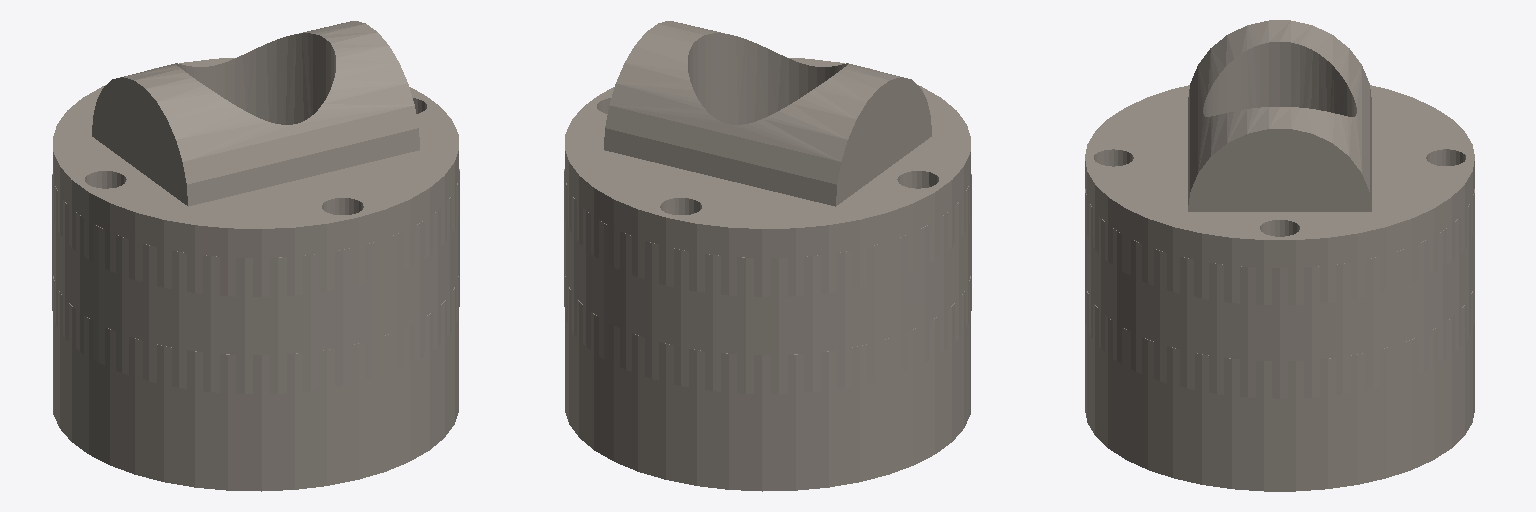
--- Facts derived from the render (not from the file) ---
Views: 3 orthographic renders of the robot side by side, from view 1: azimuth 30°, elevation 25°; view 2: azimuth 150°, elevation 25°; view 3: azimuth 270°, elevation 25°.
Robot: cylinder_joint_25asm_13 — 26 links, 25 joints (24 continuous, 1 fixed); root link link0; default pose: every joint at zero.
Visible links, largest first — view 1: link6, link22, link25, link24, link3, link21, link0, link8, link1, link23, link17, link10 (+1 smaller); view 2: link6, link22, link25, link3, link24, link21, link0, link8, link1, link23, link10; view 3: link22, link0, link6, link1, link8, link23, link14.
Link boxes in pixels (x1,y1,x2,y2): link6: (53,21,458,296); link22: (53,63,458,284); link25: (53,347,357,491); link24: (53,276,357,422); link3: (52,169,459,325); link21: (52,243,368,393); link0: (149,345,458,479); link8: (358,276,458,411); link1: (67,239,459,385); link23: (52,171,459,324); link17: (68,273,413,383); link10: (93,98,424,214); link6: (565,21,970,296); link22: (565,63,970,284); link25: (666,347,970,491); link3: (564,169,971,325); link24: (666,276,970,422); link21: (652,243,971,393); link0: (565,345,874,479); link8: (565,276,665,411); link1: (564,239,903,384); link23: (564,171,971,325); link10: (596,99,928,214); link22: (1085,20,1474,304); link0: (1085,348,1474,491); link6: (1085,107,1474,239); link1: (1085,258,1474,398); link8: (1085,291,1474,425); link23: (1085,193,1474,332); link14: (1094,108,1466,236).
Size in the robot's own frame: 0.0038 by 0.0038 by 0.0038 metres.
Meshes: 26 distinct files referenced, 23 mesh visuals loaded (23 binary STL); not drawn: 3 (reference not matched to a file when rendering).

The robot description file, URDF, robot "cylinder_joint_25asm_13":
<?xml version="1.0" encoding="utf-8"?>
<!-- This URDF was automatically created by SolidWorks to URDF Exporter! Originally created by Stephen Brawner ([email redacted]) 
     Commit Version: 1.5.1-0-g916b5db  Build Version: 1.5.7152.31018
     For more information, please see http://wiki.ros.org/sw_urdf_exporter -->
<robot
  name="cylinder_joint_25asm_13">
  <link
    name="link0">
    <inertial>
      <origin
        xyz="-2.21907652596446E-08 -1.16344392510809E-08 0.000538247791607803"
        rpy="0 0 0" />
      <mass
        value="7.14380964147276E-06" />
      <inertia
        ixx="7.09547840102883E-12"
        ixy="4.28536440220919E-17"
        ixz="7.27330777188676E-17"
        iyy="8.71236658742558E-12"
        iyz="1.14893231592751E-16"
        izz="1.39367891333543E-11" />
    </inertial>
    <visual>
      <origin
        xyz="0 0 0"
        rpy="0 0 0" />
      <geometry>
        <mesh
          filename="package://cylinder_joint_25asm_13/meshes/link0.STL" />
      </geometry>
      <material
        name="">
        <color
          rgba="0.647058823529412 0.619607843137255 0.588235294117647 1" />
      </material>
    </visual>
    <collision>
      <origin
        xyz="0 0 0"
        rpy="0 0 0" />
      <geometry>
        <mesh
          filename="package://cylinder_joint_25asm_13/meshes/link0.STL" />
      </geometry>
    </collision>
  </link>
  <link
    name="link1">
    <inertial>
      <origin
        xyz="2.21907652597405E-08 0.000838247791607803 -1.16344392510295E-08"
        rpy="0 0 0" />
      <mass
        value="7.14380964147277E-06" />
      <inertia
        ixx="7.09547840102883E-12"
        ixy="-7.27330777189981E-17"
        ixz="-4.28536440221508E-17"
        iyy="1.39367891333544E-11"
        iyz="1.14893231591823E-16"
        izz="8.71236658742558E-12" />
    </inertial>
    <visual>
      <origin
        xyz="0 0 0"
        rpy="0 0 0" />
      <geometry>
        <mesh
          filename="package://cylinder_joint_25asm_13/meshes/link1.STL" />
      </geometry>
      <material
        name="">
        <color
          rgba="0.647058823529412 0.619607843137255 0.588235294117647 1" />
      </material>
    </visual>
    <collision>
      <origin
        xyz="0 0 0"
        rpy="0 0 0" />
      <geometry>
        <mesh
          filename="package://cylinder_joint_25asm_13/meshes/link1.STL" />
      </geometry>
    </collision>
  </link>
  <joint
    name="joint1"
    type="continuous">
    <origin
      xyz="0 0 0.0007"
      rpy="1.5708 0 1.5708" />
    <parent
      link="link0" />
    <child
      link="link1" />
    <axis
      xyz="0 0 1" />
    <limit
      lower="-0.157"
      upper="0.157"
      effort="100"
      velocity="1" />
  </joint>
  <link
    name="link2">
    <inertial>
      <origin
        xyz="-2.21907652596427E-08 0.000838247791607803 1.16344392512799E-08"
        rpy="0 0 0" />
      <mass
        value="7.14380964147276E-06" />
      <inertia
        ixx="7.09547840102883E-12"
        ixy="7.2733077718779E-17"
        ixz="-4.28536440221158E-17"
        iyy="1.39367891333544E-11"
        iyz="-1.14893231591539E-16"
        izz="8.71236658742558E-12" />
    </inertial>
    <visual>
      <origin
        xyz="0 0 0"
        rpy="0 0 0" />
      <geometry>
        <mesh
          filename="package://cylinder_joint_25asm_13/meshes/link2.STL" />
      </geometry>
      <material
        name="">
        <color
          rgba="0.647058823529412 0.619607843137255 0.588235294117647 1" />
      </material>
    </visual>
    <collision>
      <origin
        xyz="0 0 0"
        rpy="0 0 0" />
      <geometry>
        <mesh
          filename="package://cylinder_joint_25asm_13/meshes/link2.STL" />
      </geometry>
    </collision>
  </link>
  <joint
    name="joint2"
    type="continuous">
    <origin
      xyz="0 0.001 0"
      rpy="0 1.5708 0" />
    <parent
      link="link1" />
    <child
      link="link2" />
    <axis
      xyz="0 0 1" />
    <limit
      lower="-0.157"
      upper="0.157"
      effort="100"
      velocity="1" />
  </joint>
  <link
    name="link3">
    <inertial>
      <origin
        xyz="-2.21907652596674E-08 0.000838247791607803 1.16344392514508E-08"
        rpy="0 0 0" />
      <mass
        value="7.14380964147276E-06" />
      <inertia
        ixx="7.09547840102883E-12"
        ixy="7.27330777185047E-17"
        ixz="-4.28536440225979E-17"
        iyy="1.39367891333543E-11"
        iyz="-1.14893231591706E-16"
        izz="8.71236658742558E-12" />
    </inertial>
    <visual>
      <origin
        xyz="0 0 0"
        rpy="0 0 0" />
      <geometry>
        <mesh
          filename="package://cylinder_joint_25asm_13/meshes/link3.STL" />
      </geometry>
      <material
        name="">
        <color
          rgba="0.647058823529412 0.619607843137255 0.588235294117647 1" />
      </material>
    </visual>
    <collision>
      <origin
        xyz="0 0 0"
        rpy="0 0 0" />
      <geometry>
        <mesh
          filename="package://cylinder_joint_25asm_13/meshes/link3.STL" />
      </geometry>
    </collision>
  </link>
  <joint
    name="joint3"
    type="continuous">
    <origin
      xyz="0 0.001 0"
      rpy="3.1416 -1.5708 0" />
    <parent
      link="link2" />
    <child
      link="link3" />
    <axis
      xyz="0 0 1" />
    <limit
      lower="-0.157"
      upper="0.157"
      effort="100"
      velocity="1" />
  </joint>
  <link
    name="link4">
    <inertial>
      <origin
        xyz="-2.21907652595925E-08 0.000838247791607803 1.16344392505559E-08"
        rpy="0 0 0" />
      <mass
        value="7.14380964147276E-06" />
      <inertia
        ixx="7.09547840102882E-12"
        ixy="7.27330777185742E-17"
        ixz="-4.28536440226602E-17"
        iyy="1.39367891333543E-11"
        iyz="-1.14893231591943E-16"
        izz="8.71236658742557E-12" />
    </inertial>
    <visual>
      <origin
        xyz="0 0 0"
        rpy="0 0 0" />
      <geometry>
        <mesh
          filename="package://cylinder_joint_25asm_13/meshes/link4.STL" />
      </geometry>
      <material
        name="">
        <color
          rgba="0.647058823529412 0.619607843137255 0.588235294117647 1" />
      </material>
    </visual>
    <collision>
      <origin
        xyz="0 0 0"
        rpy="0 0 0" />
      <geometry>
        <mesh
          filename="package://cylinder_joint_25asm_13/meshes/link4.STL" />
      </geometry>
    </collision>
  </link>
  <joint
    name="joint4"
    type="continuous">
    <origin
      xyz="0 0.001 0"
      rpy="0 1.5708 0" />
    <parent
      link="link3" />
    <child
      link="link4" />
    <axis
      xyz="0 0 1" />
    <limit
      lower="-0.157"
      upper="0.157"
      effort="100"
      velocity="1" />
  </joint>
  <link
    name="link5">
    <inertial>
      <origin
        xyz="-2.21907652597814E-08 0.000838247791607805 1.16344392510284E-08"
        rpy="0 0 0" />
      <mass
        value="7.14380964147276E-06" />
      <inertia
        ixx="7.09547840102882E-12"
        ixy="7.27330777185579E-17"
        ixz="-4.28536440225277E-17"
        iyy="1.39367891333543E-11"
        iyz="-1.1489323159178E-16"
        izz="8.71236658742557E-12" />
    </inertial>
    <visual>
      <origin
        xyz="0 0 0"
        rpy="0 0 0" />
      <geometry>
        <mesh
          filename="package://cylinder_joint_25asm_13/meshes/link5.STL" />
      </geometry>
      <material
        name="">
        <color
          rgba="0.647058823529412 0.619607843137255 0.588235294117647 1" />
      </material>
    </visual>
    <collision>
      <origin
        xyz="0 0 0"
        rpy="0 0 0" />
      <geometry>
        <mesh
          filename="package://cylinder_joint_25asm_13/meshes/link5.STL" />
      </geometry>
    </collision>
  </link>
  <joint
    name="joint5"
    type="continuous">
    <origin
      xyz="0 0.001 0"
      rpy="3.1416 -1.5708 0" />
    <parent
      link="link4" />
    <child
      link="link5" />
    <axis
      xyz="0 0 1" />
    <limit
      lower="-0.157"
      upper="0.157"
      effort="100"
      velocity="1" />
  </joint>
  <link
    name="link6">
    <inertial>
      <origin
        xyz="-2.21907652596203E-08 0.000838247791607804 1.16344392499469E-08"
        rpy="0 0 0" />
      <mass
        value="7.14380964147276E-06" />
      <inertia
        ixx="7.09547840102882E-12"
        ixy="7.27330777187836E-17"
        ixz="-4.28536440227107E-17"
        iyy="1.39367891333543E-11"
        iyz="-1.14893231591542E-16"
        izz="8.71236658742557E-12" />
    </inertial>
    <visual>
      <origin
        xyz="0 0 0"
        rpy="0 0 0" />
      <geometry>
        <mesh
          filename="package://cylinder_joint_25asm_13/meshes/link6.STL" />
      </geometry>
      <material
        name="">
        <color
          rgba="0.647058823529412 0.619607843137255 0.588235294117647 1" />
      </material>
    </visual>
    <collision>
      <origin
        xyz="0 0 0"
        rpy="0 0 0" />
      <geometry>
        <mesh
          filename="package://cylinder_joint_25asm_13/meshes/link6.STL" />
      </geometry>
    </collision>
  </link>
  <joint
    name="joint6"
    type="continuous">
    <origin
      xyz="0 0.001 0"
      rpy="0 1.5708 0" />
    <parent
      link="link5" />
    <child
      link="link6" />
    <axis
      xyz="0 0 1" />
    <limit
      lower="-0.157"
      upper="0.157"
      effort="100"
      velocity="1" />
  </joint>
  <link
    name="link7">
    <inertial>
      <origin
        xyz="-2.21907652597862E-08 0.000838247791607803 1.16344392505934E-08"
        rpy="0 0 0" />
      <mass
        value="7.14380964147276E-06" />
      <inertia
        ixx="7.09547840102882E-12"
        ixy="7.27330777190427E-17"
        ixz="-4.28536440224905E-17"
        iyy="1.39367891333543E-11"
        iyz="-1.14893231592436E-16"
        izz="8.71236658742558E-12" />
    </inertial>
    <visual>
      <origin
        xyz="0 0 0"
        rpy="0 0 0" />
      <geometry>
        <mesh
          filename="package://cylinder_joint_25asm_13/meshes/link7.STL" />
      </geometry>
      <material
        name="">
        <color
          rgba="0.647058823529412 0.619607843137255 0.588235294117647 1" />
      </material>
    </visual>
    <collision>
      <origin
        xyz="0 0 0"
        rpy="0 0 0" />
      <geometry>
        <mesh
          filename="package://cylinder_joint_25asm_13/meshes/link7.STL" />
      </geometry>
    </collision>
  </link>
  <joint
    name="joint7"
    type="continuous">
    <origin
      xyz="0 0.001 0"
      rpy="3.1416 -1.5708 0" />
    <parent
      link="link6" />
    <child
      link="link7" />
    <axis
      xyz="0 0 1" />
    <limit
      lower="-0.157"
      upper="0.157"
      effort="100"
      velocity="1" />
  </joint>
  <link
    name="link8">
    <inertial>
      <origin
        xyz="-2.21907652596475E-08 0.000838247791607803 1.16344392498305E-08"
        rpy="0 0 0" />
      <mass
        value="7.14380964147276E-06" />
      <inertia
        ixx="7.09547840102882E-12"
        ixy="7.27330777186182E-17"
        ixz="-4.2853644021828E-17"
        iyy="1.39367891333543E-11"
        iyz="-1.14893231592717E-16"
        izz="8.71236658742557E-12" />
    </inertial>
    <visual>
      <origin
        xyz="0 0 0"
        rpy="0 0 0" />
      <geometry>
        <mesh
          filename="package://cylinder_joint_25asm_13/meshes/link8.STL" />
      </geometry>
      <material
        name="">
        <color
          rgba="0.647058823529412 0.619607843137255 0.588235294117647 1" />
      </material>
    </visual>
    <collision>
      <origin
        xyz="0 0 0"
        rpy="0 0 0" />
      <geometry>
        <mesh
          filename="package://cylinder_joint_25asm_13/meshes/link8.STL" />
      </geometry>
    </collision>
  </link>
  <joint
    name="joint8"
    type="continuous">
    <origin
      xyz="0 0.001 0"
      rpy="0 1.5708 0" />
    <parent
      link="link7" />
    <child
      link="link8" />
    <axis
      xyz="0 0 1" />
    <limit
      lower="-0.157"
      upper="0.157"
      effort="100"
      velocity="1" />
  </joint>
  <link
    name="link9">
    <inertial>
      <origin
        xyz="-2.21907652596476E-08 0.000838247791607802 1.1634439250027E-08"
        rpy="0 0 0" />
      <mass
        value="7.14380964147276E-06" />
      <inertia
        ixx="7.09547840102882E-12"
        ixy="7.27330777186689E-17"
        ixz="-4.28536440227988E-17"
        iyy="1.39367891333543E-11"
        iyz="-1.14893231592105E-16"
        izz="8.71236658742557E-12" />
    </inertial>
    <visual>
      <origin
        xyz="0 0 0"
        rpy="0 0 0" />
      <geometry>
        <mesh
          filename="package://cylinder_joint_25asm_13/meshes/link9.STL" />
      </geometry>
      <material
        name="">
        <color
          rgba="0.647058823529412 0.619607843137255 0.588235294117647 1" />
      </material>
    </visual>
    <collision>
      <origin
        xyz="0 0 0"
        rpy="0 0 0" />
      <geometry>
        <mesh
          filename="package://cylinder_joint_25asm_13/meshes/link9.STL" />
      </geometry>
    </collision>
  </link>
  <joint
    name="joint9"
    type="continuous">
    <origin
      xyz="0 0.001 0"
      rpy="3.1416 -1.5708 0" />
    <parent
      link="link8" />
    <child
      link="link9" />
    <axis
      xyz="0 0 1" />
    <limit
      lower="-0.157"
      upper="0.157"
      effort="100"
      velocity="1" />
  </joint>
  <link
    name="link10">
    <inertial>
      <origin
        xyz="2.21907652594878E-08 0.0008382477916078 -1.16344392530908E-08"
        rpy="0 0 0" />
      <mass
        value="7.14380964147275E-06" />
      <inertia
        ixx="7.09547840102882E-12"
        ixy="-7.27330777184099E-17"
        ixz="-4.28536440220448E-17"
        iyy="1.39367891333543E-11"
        iyz="1.14893231592422E-16"
        izz="8.71236658742557E-12" />
    </inertial>
    <visual>
      <origin
        xyz="0 0 0"
        rpy="0 0 0" />
      <geometry>
        <mesh
          filename="package://cylinder_joint_25asm_13/meshes/link10.STL" />
      </geometry>
      <material
        name="">
        <color
          rgba="0.647058823529412 0.619607843137255 0.588235294117647 1" />
      </material>
    </visual>
    <collision>
      <origin
        xyz="0 0 0"
        rpy="0 0 0" />
      <geometry>
        <mesh
          filename="package://cylinder_joint_25asm_13/meshes/link10.STL" />
      </geometry>
    </collision>
  </link>
  <joint
    name="joint10"
    type="continuous">
    <origin
      xyz="0 0.001 0"
      rpy="0 1.5708 0" />
    <parent
      link="link9" />
    <child
      link="link10" />
    <axis
      xyz="0 0 1" />
    <limit
      lower="-0.157"
      upper="0.157"
      effort="100"
      velocity="1" />
  </joint>
  <link
    name="link11">
    <inertial>
      <origin
        xyz="2.21907652597516E-08 0.000838247791607806 -1.16344392519066E-08"
        rpy="0 0 0" />
      <mass
        value="7.14380964147276E-06" />
      <inertia
        ixx="7.09547840102882E-12"
        ixy="-7.27330777191341E-17"
        ixz="-4.28536440227158E-17"
        iyy="1.39367891333543E-11"
        iyz="1.14893231592022E-16"
        izz="8.71236658742557E-12" />
    </inertial>
    <visual>
      <origin
        xyz="0 0 0"
        rpy="0 0 0" />
      <geometry>
        <mesh
          filename="package://cylinder_joint_25asm_13/meshes/link11.STL" />
      </geometry>
      <material
        name="">
        <color
          rgba="0.647058823529412 0.619607843137255 0.588235294117647 1" />
      </material>
    </visual>
    <collision>
      <origin
        xyz="0 0 0"
        rpy="0 0 0" />
      <geometry>
        <mesh
          filename="package://cylinder_joint_25asm_13/meshes/link11.STL" />
      </geometry>
    </collision>
  </link>
  <joint
    name="joint11"
    type="continuous">
    <origin
      xyz="0 0.001 0"
      rpy="3.1416 -1.5708 0" />
    <parent
      link="link10" />
    <child
      link="link11" />
    <axis
      xyz="0 0 1" />
    <limit
      lower="-0.157"
      upper="0.157"
      effort="100"
      velocity="1" />
  </joint>
  <link
    name="link12">
    <inertial>
      <origin
        xyz="-2.21907652592679E-08 0.000838247791607802 1.16344392489562E-08"
        rpy="0 0 0" />
      <mass
        value="7.14380964147276E-06" />
      <inertia
        ixx="7.09547840102882E-12"
        ixy="7.27330777187626E-17"
        ixz="-4.28536440224688E-17"
        iyy="1.39367891333543E-11"
        iyz="-1.14893231591499E-16"
        izz="8.71236658742557E-12" />
    </inertial>
    <visual>
      <origin
        xyz="0 0 0"
        rpy="0 0 0" />
      <geometry>
        <mesh
          filename="package://cylinder_joint_25asm_13/meshes/link12.STL" />
      </geometry>
      <material
        name="">
        <color
          rgba="0.647058823529412 0.619607843137255 0.588235294117647 1" />
      </material>
    </visual>
    <collision>
      <origin
        xyz="0 0 0"
        rpy="0 0 0" />
      <geometry>
        <mesh
          filename="package://cylinder_joint_25asm_13/meshes/link12.STL" />
      </geometry>
    </collision>
  </link>
  <joint
    name="joint12"
    type="continuous">
    <origin
      xyz="0 0.001 0"
      rpy="0 1.5708 0" />
    <parent
      link="link11" />
    <child
      link="link12" />
    <axis
      xyz="0 0 1" />
    <limit
      lower="-0.157"
      upper="0.157"
      effort="100"
      velocity="1" />
  </joint>
  <link
    name="link13">
    <inertial>
      <origin
        xyz="-2.21907652597332E-08 0.000838247791607802 1.1634439250776E-08"
        rpy="0 0 0" />
      <mass
        value="7.14380964147275E-06" />
      <inertia
        ixx="7.09547840102882E-12"
        ixy="7.273307771878E-17"
        ixz="-4.28536440218357E-17"
        iyy="1.39367891333543E-11"
        iyz="-1.14893231593439E-16"
        izz="8.71236658742557E-12" />
    </inertial>
    <visual>
      <origin
        xyz="0 0 0"
        rpy="0 0 0" />
      <geometry>
        <mesh
          filename="package://cylinder_joint_25asm_13/meshes/link13.STL" />
      </geometry>
      <material
        name="">
        <color
          rgba="0.647058823529412 0.619607843137255 0.588235294117647 1" />
      </material>
    </visual>
    <collision>
      <origin
        xyz="0 0 0"
        rpy="0 0 0" />
      <geometry>
        <mesh
          filename="package://cylinder_joint_25asm_13/meshes/link13.STL" />
      </geometry>
    </collision>
  </link>
  <joint
    name="joint13"
    type="continuous">
    <origin
      xyz="0 0.001 0"
      rpy="3.1416 -1.5708 0" />
    <parent
      link="link12" />
    <child
      link="link13" />
    <axis
      xyz="0 0 1" />
    <limit
      lower="-0.157"
      upper="0.157"
      effort="100"
      velocity="1" />
  </joint>
  <link
    name="link14">
    <inertial>
      <origin
        xyz="2.2191E-08 0.00083825 -1.1634E-08"
        rpy="0 0 0" />
      <mass
        value="7.1438E-06" />
      <inertia
        ixx="7.0955E-12"
        ixy="-7.2733E-17"
        ixz="-4.2854E-17"
        iyy="1.3937E-11"
        iyz="1.1489E-16"
        izz="8.7124E-12" />
    </inertial>
    <visual>
      <origin
        xyz="0 0 0"
        rpy="0 0 0" />
      <geometry>
        <mesh
          filename="package://cylinder_joint_25asm_13/meshes/link14.STL" />
      </geometry>
      <material
        name="">
        <color
          rgba="0.64706 0.61961 0.58824 1" />
      </material>
    </visual>
    <collision>
      <origin
        xyz="0 0 0"
        rpy="0 0 0" />
      <geometry>
        <mesh
          filename="package://cylinder_joint_25asm_13/meshes/link14.STL" />
      </geometry>
    </collision>
  </link>
  <joint
    name="joint14"
    type="continuous">
    <origin
      xyz="0 0.001 0"
      rpy="0 1.5708 0" />
    <parent
      link="link13" />
    <child
      link="link14" />
    <axis
      xyz="0 0 1" />
    <limit
      lower="-0.157"
      upper="0.157"
      effort="100"
      velocity="1" />
  </joint>
  <link
    name="link15">
    <inertial>
      <origin
        xyz="2.21907652597663E-08 0.000838247791607804 -1.16344392519056E-08"
        rpy="0 0 0" />
      <mass
        value="7.14380964147278E-06" />
      <inertia
        ixx="7.09547840102885E-12"
        ixy="-7.27330777185466E-17"
        ixz="-4.28536440226031E-17"
        iyy="1.39367891333544E-11"
        iyz="1.14893231592994E-16"
        izz="8.7123665874256E-12" />
    </inertial>
    <visual>
      <origin
        xyz="0 0 0"
        rpy="0 0 0" />
      <geometry>
        <mesh
          filename="package://cylinder_joint_25asm_13/meshes/link15.STL" />
      </geometry>
      <material
        name="">
        <color
          rgba="0.647058823529412 0.619607843137255 0.588235294117647 1" />
      </material>
    </visual>
    <collision>
      <origin
        xyz="0 0 0"
        rpy="0 0 0" />
      <geometry>
        <mesh
          filename="package://cylinder_joint_25asm_13/meshes/link15.STL" />
      </geometry>
    </collision>
  </link>
  <joint
    name="joint15"
    type="continuous">
    <origin
      xyz="0 0.001 0"
      rpy="3.1416 -1.5708 0" />
    <parent
      link="link14" />
    <child
      link="link15" />
    <axis
      xyz="0 0 1" />
    <limit
      lower="-0.157"
      upper="0.157"
      effort="100"
      velocity="1" />
  </joint>
  <link
    name="link16">
    <inertial>
      <origin
        xyz="2.21907652598975E-08 0.000838247791607804 -1.16344392530575E-08"
        rpy="0 0 0" />
      <mass
        value="7.14380964147276E-06" />
      <inertia
        ixx="7.09547840102883E-12"
        ixy="-7.27330777199695E-17"
        ixz="-4.28536440231096E-17"
        iyy="1.39367891333543E-11"
        iyz="1.1489323159145E-16"
        izz="8.71236658742558E-12" />
    </inertial>
    <visual>
      <origin
        xyz="0 0 0"
        rpy="0 0 0" />
      <geometry>
        <mesh
          filename="package://cylinder_joint_25asm_13/meshes/link16.STL" />
      </geometry>
      <material
        name="">
        <color
          rgba="0.647058823529412 0.619607843137255 0.588235294117647 1" />
      </material>
    </visual>
    <collision>
      <origin
        xyz="0 0 0"
        rpy="0 0 0" />
      <geometry>
        <mesh
          filename="package://cylinder_joint_25asm_13/meshes/link16.STL" />
      </geometry>
    </collision>
  </link>
  <joint
    name="joint16"
    type="continuous">
    <origin
      xyz="0 0.001 0"
      rpy="0 1.5708 0" />
    <parent
      link="link15" />
    <child
      link="link16" />
    <axis
      xyz="0 0 1" />
    <limit
      lower="-0.157"
      upper="0.157"
      effort="100"
      velocity="1" />
  </joint>
  <link
    name="link17">
    <inertial>
      <origin
        xyz="2.21907652598001E-08 0.000838247791607804 -1.16344392511635E-08"
        rpy="0 0 0" />
      <mass
        value="7.14380964147277E-06" />
      <inertia
        ixx="7.09547840102883E-12"
        ixy="-7.27330777198489E-17"
        ixz="-4.28536440229726E-17"
        iyy="1.39367891333543E-11"
        iyz="1.14893231590642E-16"
        izz="8.71236658742558E-12" />
    </inertial>
    <visual>
      <origin
        xyz="0 0 0"
        rpy="0 0 0" />
      <geometry>
        <mesh
          filename="package://cylinder_joint_25asm_13/meshes/link17.STL" />
      </geometry>
      <material
        name="">
        <color
          rgba="0.647058823529412 0.619607843137255 0.588235294117647 1" />
      </material>
    </visual>
    <collision>
      <origin
        xyz="0 0 0"
        rpy="0 0 0" />
      <geometry>
        <mesh
          filename="package://cylinder_joint_25asm_13/meshes/link17.STL" />
      </geometry>
    </collision>
  </link>
  <joint
    name="joint17"
    type="continuous">
    <origin
      xyz="0 0.001 0"
      rpy="3.1416 -1.5708 0" />
    <parent
      link="link16" />
    <child
      link="link17" />
    <axis
      xyz="0 0 1" />
    <limit
      lower="-0.157"
      upper="0.157"
      effort="100"
      velocity="1" />
  </joint>
  <link
    name="link18">
    <inertial>
      <origin
        xyz="-2.219076525961E-08 0.000838247791607804 1.16344392482882E-08"
        rpy="0 0 0" />
      <mass
        value="7.14380964147276E-06" />
      <inertia
        ixx="7.09547840102882E-12"
        ixy="7.27330777183652E-17"
        ixz="-4.28536440234473E-17"
        iyy="1.39367891333543E-11"
        iyz="-1.14893231590144E-16"
        izz="8.71236658742557E-12" />
    </inertial>
    <visual>
      <origin
        xyz="0 0 0"
        rpy="0 0 0" />
      <geometry>
        <mesh
          filename="package://cylinder_joint_25asm_13/meshes/link18.STL" />
      </geometry>
      <material
        name="">
        <color
          rgba="0.647058823529412 0.619607843137255 0.588235294117647 1" />
      </material>
    </visual>
    <collision>
      <origin
        xyz="0 0 0"
        rpy="0 0 0" />
      <geometry>
        <mesh
          filename="package://cylinder_joint_25asm_13/meshes/link18.STL" />
      </geometry>
    </collision>
  </link>
  <joint
    name="joint18"
    type="continuous">
    <origin
      xyz="0 0.001 0"
      rpy="0 1.5708 0" />
    <parent
      link="link17" />
    <child
      link="link18" />
    <axis
      xyz="0 0 1" />
    <limit
      lower="-0.157"
      upper="0.157"
      effort="100"
      velocity="1" />
  </joint>
  <link
    name="link19">
    <inertial>
      <origin
        xyz="-2.21907652598299E-08 0.000838247791607804 1.16344392510687E-08"
        rpy="0 0 0" />
      <mass
        value="7.14380964147276E-06" />
      <inertia
        ixx="7.09547840102882E-12"
        ixy="7.27330777192169E-17"
        ixz="-4.28536440226449E-17"
        iyy="1.39367891333543E-11"
        iyz="-1.14893231592272E-16"
        izz="8.71236658742557E-12" />
    </inertial>
    <visual>
      <origin
        xyz="0 0 0"
        rpy="0 0 0" />
      <geometry>
        <mesh
          filename="package://cylinder_joint_25asm_13/meshes/link19.STL" />
      </geometry>
      <material
        name="">
        <color
          rgba="0.647058823529412 0.619607843137255 0.588235294117647 1" />
      </material>
    </visual>
    <collision>
      <origin
        xyz="0 0 0"
        rpy="0 0 0" />
      <geometry>
        <mesh
          filename="package://cylinder_joint_25asm_13/meshes/link19.STL" />
      </geometry>
    </collision>
  </link>
  <joint
    name="joint19"
    type="continuous">
    <origin
      xyz="0 0.001 0"
      rpy="3.1416 -1.5708 0" />
    <parent
      link="link18" />
    <child
      link="link19" />
    <axis
      xyz="0 0 1" />
    <limit
      lower="-0.157"
      upper="0.157"
      effort="100"
      velocity="1" />
  </joint>
  <link
    name="link20">
    <inertial>
      <origin
        xyz="2.21907652598071E-08 0.000838247791607804 -1.16344392541638E-08"
        rpy="0 0 0" />
      <mass
        value="7.14380964147276E-06" />
      <inertia
        ixx="7.09547840102882E-12"
        ixy="-7.27330777195759E-17"
        ixz="-4.28536440210982E-17"
        iyy="1.39367891333543E-11"
        iyz="1.1489323159337E-16"
        izz="8.71236658742558E-12" />
    </inertial>
    <visual>
      <origin
        xyz="0 0 0"
        rpy="0 0 0" />
      <geometry>
        <mesh
          filename="package://cylinder_joint_25asm_13/meshes/link20.STL" />
      </geometry>
      <material
        name="">
        <color
          rgba="0.647058823529412 0.619607843137255 0.588235294117647 1" />
      </material>
    </visual>
    <collision>
      <origin
        xyz="0 0 0"
        rpy="0 0 0" />
      <geometry>
        <mesh
          filename="package://cylinder_joint_25asm_13/meshes/link20.STL" />
      </geometry>
    </collision>
  </link>
  <joint
    name="joint20"
    type="continuous">
    <origin
      xyz="0 0.001 0"
      rpy="0 1.5708 0" />
    <parent
      link="link19" />
    <child
      link="link20" />
    <axis
      xyz="0 0 1" />
    <limit
      lower="-0.157"
      upper="0.157"
      effort="100"
      velocity="1" />
  </joint>
  <link
    name="link21">
    <inertial>
      <origin
        xyz="2.21907652594562E-08 0.000838247791607804 -1.16344392513485E-08"
        rpy="0 0 0" />
      <mass
        value="7.14380964147276E-06" />
      <inertia
        ixx="7.09547840102882E-12"
        ixy="-7.27330777177214E-17"
        ixz="-4.28536440225769E-17"
        iyy="1.39367891333543E-11"
        iyz="1.14893231592281E-16"
        izz="8.71236658742558E-12" />
    </inertial>
    <visual>
      <origin
        xyz="0 0 0"
        rpy="0 0 0" />
      <geometry>
        <mesh
          filename="package://cylinder_joint_25asm_13/meshes/link21.STL" />
      </geometry>
      <material
        name="">
        <color
          rgba="0.647058823529412 0.619607843137255 0.588235294117647 1" />
      </material>
    </visual>
    <collision>
      <origin
        xyz="0 0 0"
        rpy="0 0 0" />
      <geometry>
        <mesh
          filename="package://cylinder_joint_25asm_13/meshes/link21.STL" />
      </geometry>
    </collision>
  </link>
  <joint
    name="joint21"
    type="continuous">
    <origin
      xyz="0 0.001 0"
      rpy="3.1416 -1.5708 0" />
    <parent
      link="link20" />
    <child
      link="link21" />
    <axis
      xyz="0 0 1" />
    <limit
      lower="-0.157"
      upper="0.157"
      effort="100"
      velocity="1" />
  </joint>
  <link
    name="link22">
    <inertial>
      <origin
        xyz="-2.21907652600381E-08 0.0008382477916078 1.16344392488871E-08"
        rpy="0 0 0" />
      <mass
        value="7.14380964147277E-06" />
      <inertia
        ixx="7.09547840102883E-12"
        ixy="7.27330777203359E-17"
        ixz="-4.28536440218424E-17"
        iyy="1.39367891333543E-11"
        iyz="-1.14893231592544E-16"
        izz="8.71236658742558E-12" />
    </inertial>
    <visual>
      <origin
        xyz="0 0 0"
        rpy="0 0 0" />
      <geometry>
        <mesh
          filename="package://cylinder_joint_25asm_13/meshes/link22.STL" />
      </geometry>
      <material
        name="">
        <color
          rgba="0.647058823529412 0.619607843137255 0.588235294117647 1" />
      </material>
    </visual>
    <collision>
      <origin
        xyz="0 0 0"
        rpy="0 0 0" />
      <geometry>
        <mesh
          filename="package://cylinder_joint_25asm_13/meshes/link22.STL" />
      </geometry>
    </collision>
  </link>
  <joint
    name="joint22"
    type="continuous">
    <origin
      xyz="0 0.001 0"
      rpy="0 1.5708 0" />
    <parent
      link="link21" />
    <child
      link="link22" />
    <axis
      xyz="0 0 1" />
    <limit
      lower="-0.157"
      upper="0.157"
      effort="100"
      velocity="1" />
  </joint>
  <link
    name="link23">
    <inertial>
      <origin
        xyz="-2.21907652595946E-08 0.000838247791607804 1.16344392509173E-08"
        rpy="0 0 0" />
      <mass
        value="7.14380964147276E-06" />
      <inertia
        ixx="7.09547840102882E-12"
        ixy="7.27330777196098E-17"
        ixz="-4.28536440222124E-17"
        iyy="1.39367891333543E-11"
        iyz="-1.14893231591804E-16"
        izz="8.71236658742558E-12" />
    </inertial>
    <visual>
      <origin
        xyz="0 0 0"
        rpy="0 0 0" />
      <geometry>
        <mesh
          filename="package://cylinder_joint_25asm_13/meshes/link23.STL" />
      </geometry>
      <material
        name="">
        <color
          rgba="0.647058823529412 0.619607843137255 0.588235294117647 1" />
      </material>
    </visual>
    <collision>
      <origin
        xyz="0 0 0"
        rpy="0 0 0" />
      <geometry>
        <mesh
          filename="package://cylinder_joint_25asm_13/meshes/link23.STL" />
      </geometry>
    </collision>
  </link>
  <joint
    name="joint23"
    type="continuous">
    <origin
      xyz="0 0.001 0"
      rpy="3.1416 -1.5708 0" />
    <parent
      link="link22" />
    <child
      link="link23" />
    <axis
      xyz="0 0 1" />
    <limit
      lower="-0.157"
      upper="0.157"
      effort="100"
      velocity="1" />
  </joint>
  <link
    name="link24">
    <inertial>
      <origin
        xyz="2.21907652598333E-08 0.000838247791607807 -1.16344392545944E-08"
        rpy="0 0 0" />
      <mass
        value="7.14380964147276E-06" />
      <inertia
        ixx="7.09547840102883E-12"
        ixy="-7.27330777197301E-17"
        ixz="-4.28536440214416E-17"
        iyy="1.39367891333543E-11"
        iyz="1.14893231592713E-16"
        izz="8.71236658742557E-12" />
    </inertial>
    <visual>
      <origin
        xyz="0 0 0"
        rpy="0 0 0" />
      <geometry>
        <mesh
          filename="package://cylinder_joint_25asm_13/meshes/link24.STL" />
      </geometry>
      <material
        name="">
        <color
          rgba="0.647058823529412 0.619607843137255 0.588235294117647 1" />
      </material>
    </visual>
    <collision>
      <origin
        xyz="0 0 0"
        rpy="0 0 0" />
      <geometry>
        <mesh
          filename="package://cylinder_joint_25asm_13/meshes/link24.STL" />
      </geometry>
    </collision>
  </link>
  <joint
    name="joint24"
    type="continuous">
    <origin
      xyz="0 0.001 0"
      rpy="0 1.5708 0" />
    <parent
      link="link23" />
    <child
      link="link24" />
    <axis
      xyz="0 0 1" />
    <limit
      lower="-0.157"
      upper="0.157"
      effort="100"
      velocity="1" />
  </joint>
  <link
    name="link25">
    <inertial>
      <origin
        xyz="-1.16344392516958E-08 -0.000161752208392194 -2.21907652602083E-08"
        rpy="0 0 0" />
      <mass
        value="7.14380964147276E-06" />
      <inertia
        ixx="8.71236658742558E-12"
        ixy="1.14893231592732E-16"
        ixz="4.28536440214416E-17"
        iyy="1.39367891333543E-11"
        iyz="7.27330777196951E-17"
        izz="7.09547840102883E-12" />
    </inertial>
    <visual>
      <origin
        xyz="0 0 0"
        rpy="0 0 0" />
      <geometry>
        <mesh
          filename="package://cylinder_joint_25asm_13/meshes/link25.STL" />
      </geometry>
      <material
        name="">
        <color
          rgba="0.647058823529412 0.619607843137255 0.588235294117647 1" />
      </material>
    </visual>
    <collision>
      <origin
        xyz="0 0 0"
        rpy="0 0 0" />
      <geometry>
        <mesh
          filename="package://cylinder_joint_25asm_13/meshes/link25.STL" />
      </geometry>
    </collision>
  </link>
  <joint
    name="joint25"
    type="fixed">
    <origin
      xyz="0 0.001 0"
      rpy="3.1416 -1.5708 0" />
    <parent
      link="link24" />
    <child
      link="link25" />
    <axis
      xyz="0 0 0" />
    <limit
      lower="-0.157"
      upper="0.157"
      effort="100"
      velocity="1" />
  </joint>
</robot>
